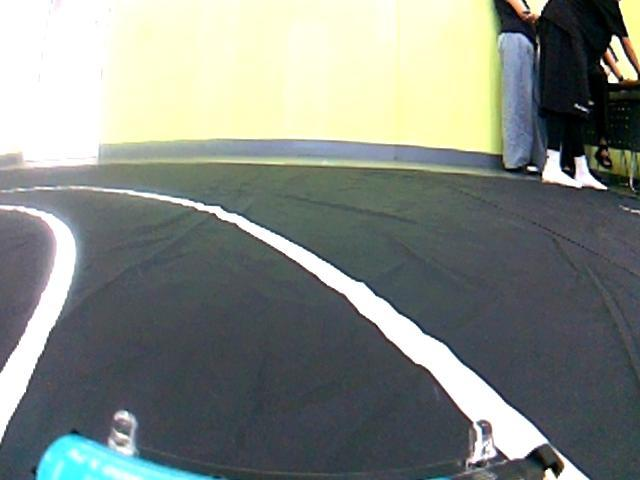straight: (0, 221, 608, 475)
